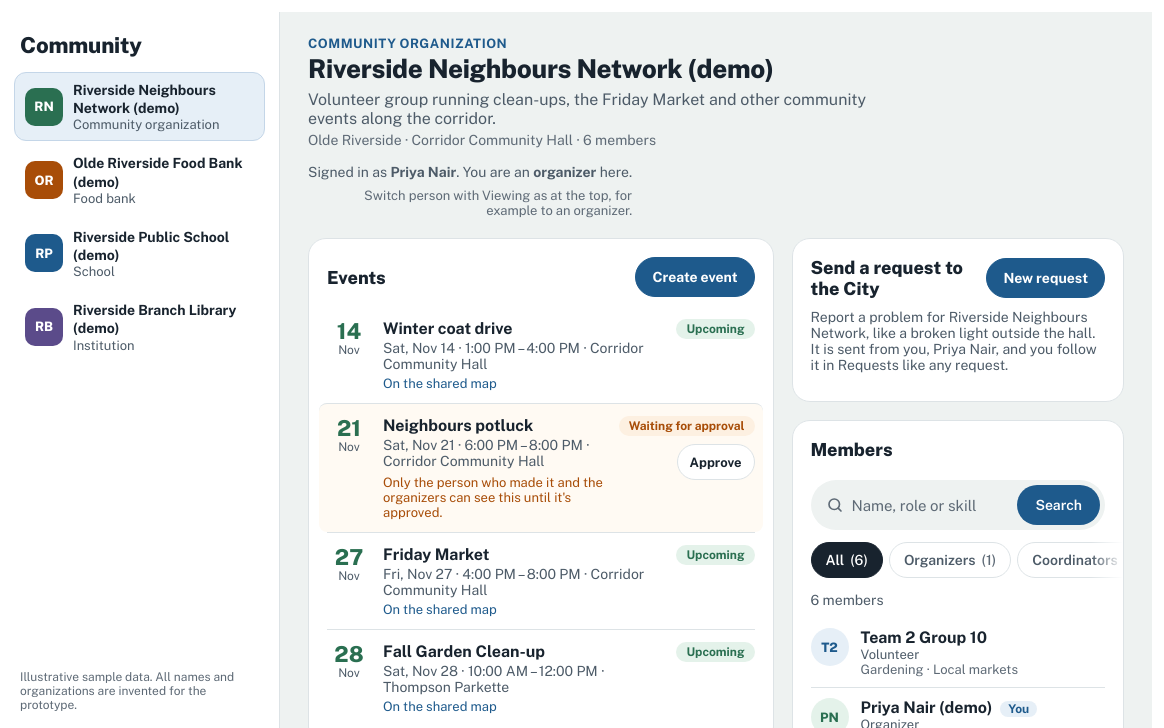
Test: CommunityPage › a member sends a request to the City for the group, and it reaches the City 311 queue (KAN-48)
Check: the heading "Riverside Neighbours Network (demo)" is shown, box [308,53,774,84]
Step 1. Click the button "New request" → click(1046, 278), box [986,258,1105,298]
(page scrolled)
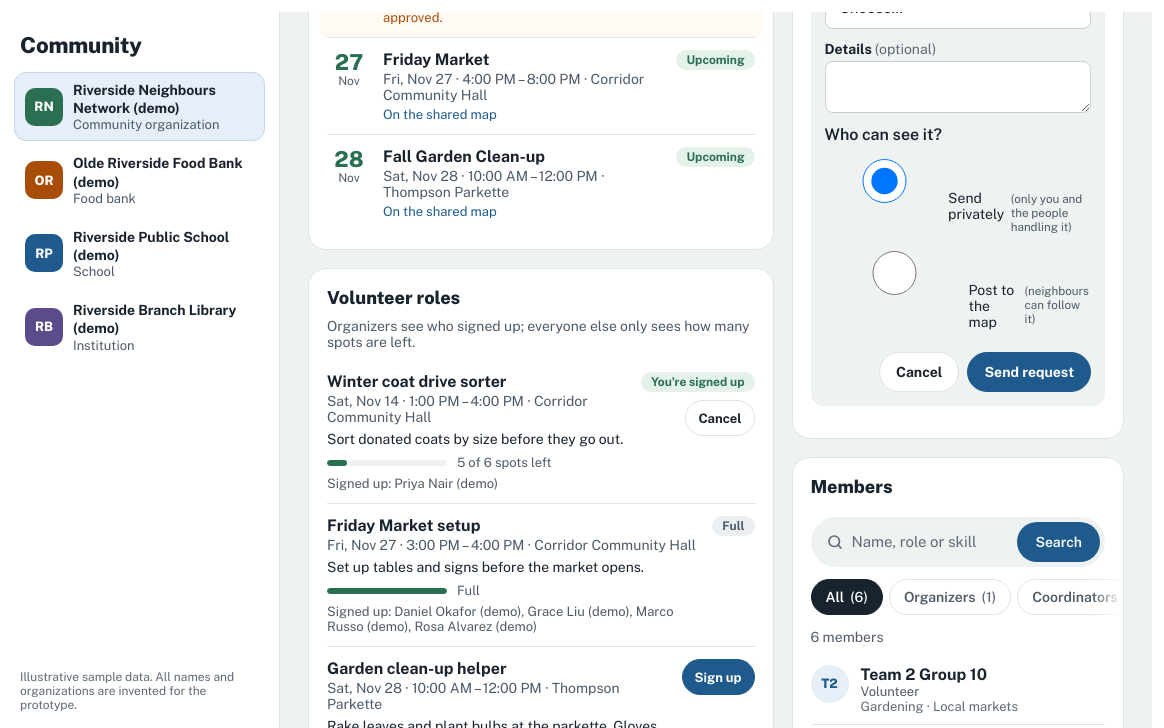
Step 2. Click the button "Send request" → click(1029, 372), box [968,352,1091,392]
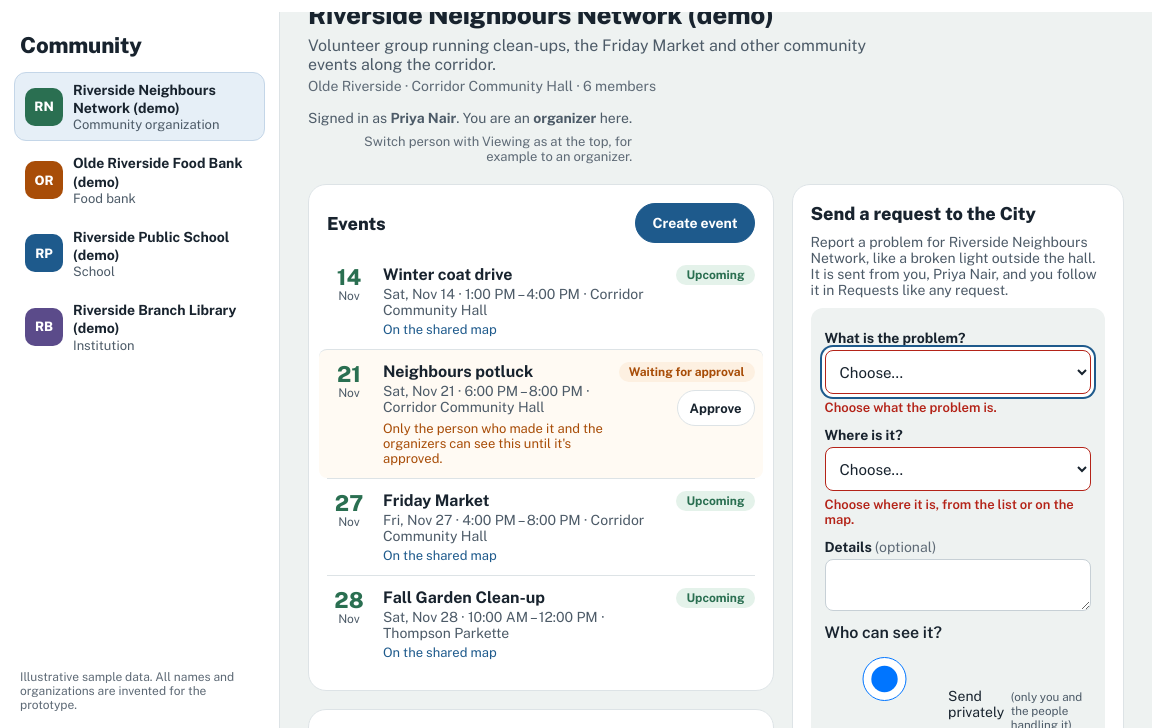
Check: the text "Choose what the problem is." is shown, box [824,400,997,415]
Step 3. Select "Street light out" in the dropdown labelled "What is the problem?" → (958, 372), box [824,350,1091,394]
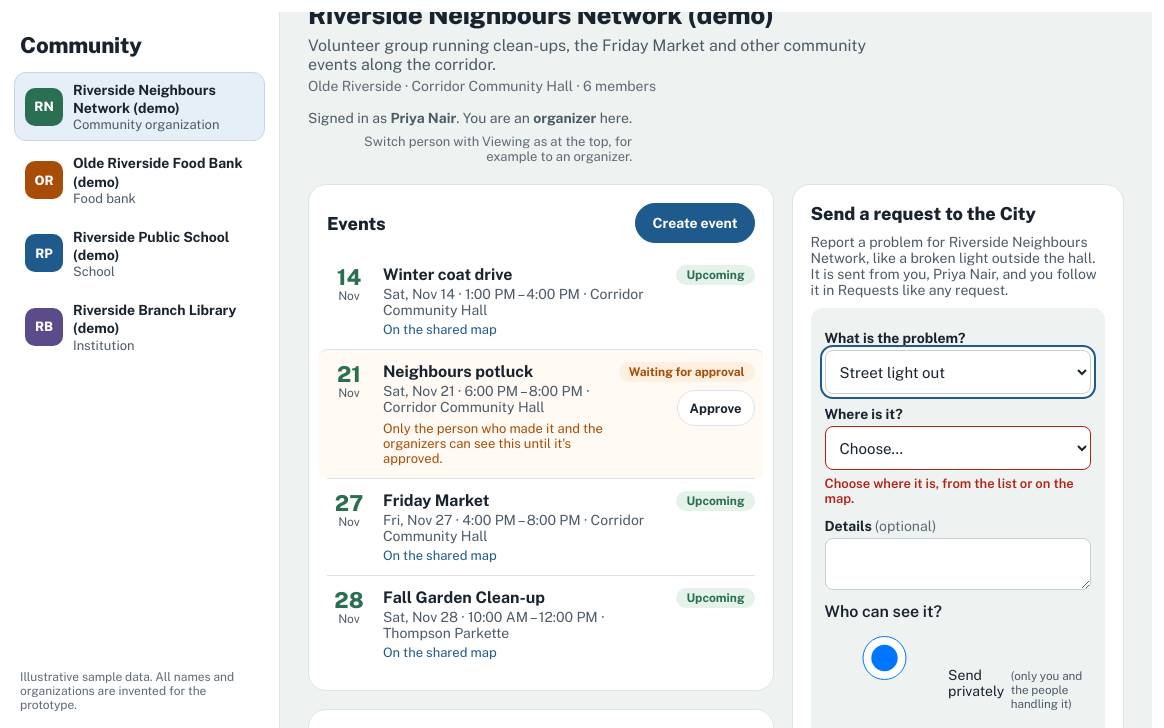
Step 4. Select "Near Corridor Community Hall" in the dropdown labelled "Where is it?" → (958, 448), box [824,426,1091,470]
(page scrolled)
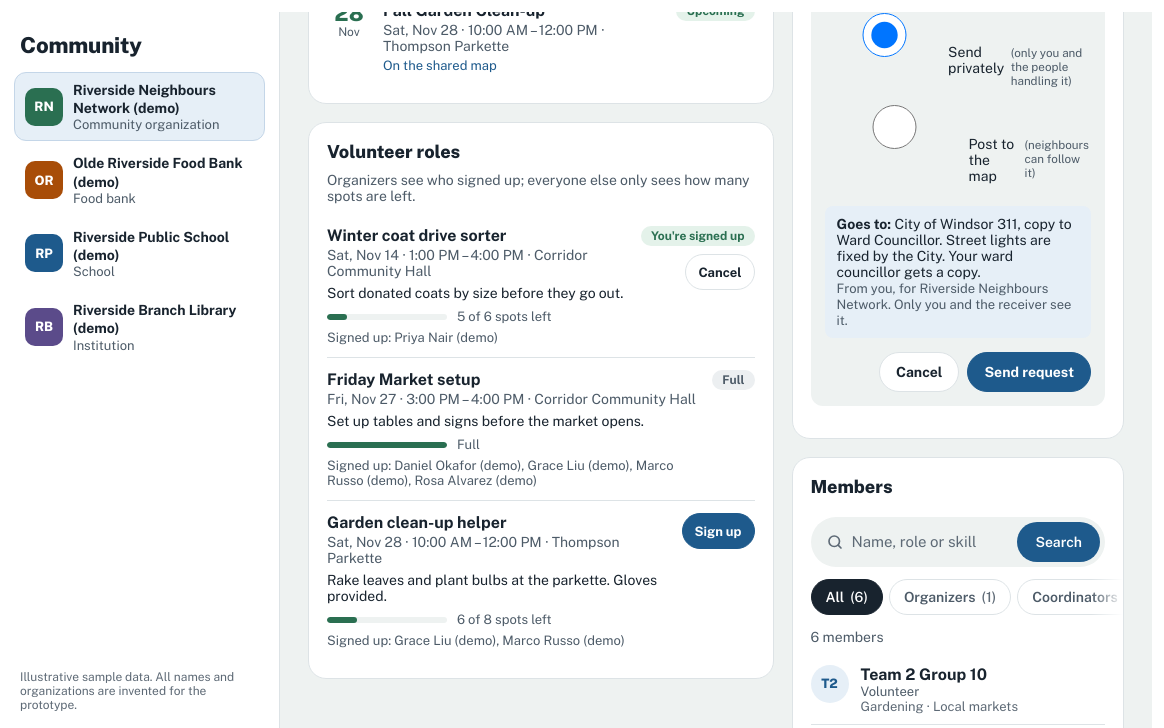
Step 5. Click the button "Send request" → click(1029, 372), box [968,352,1091,392]
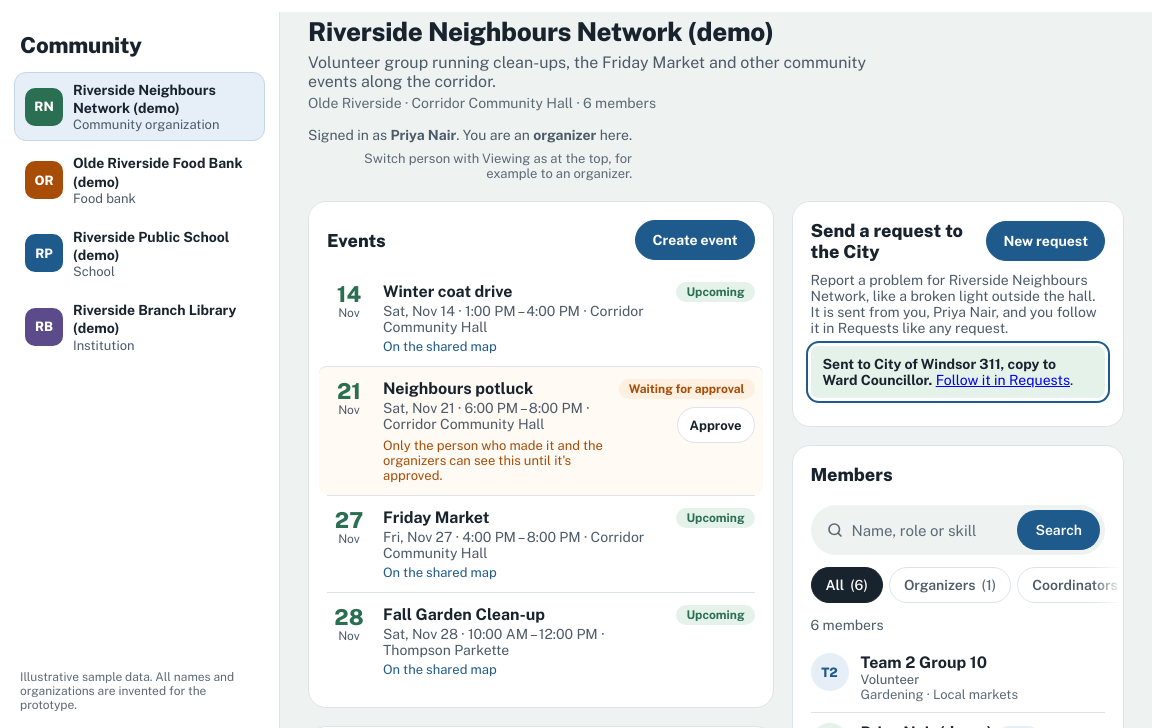
Check: the link "Follow it in Requests" is shown, box [936,372,1070,388]
